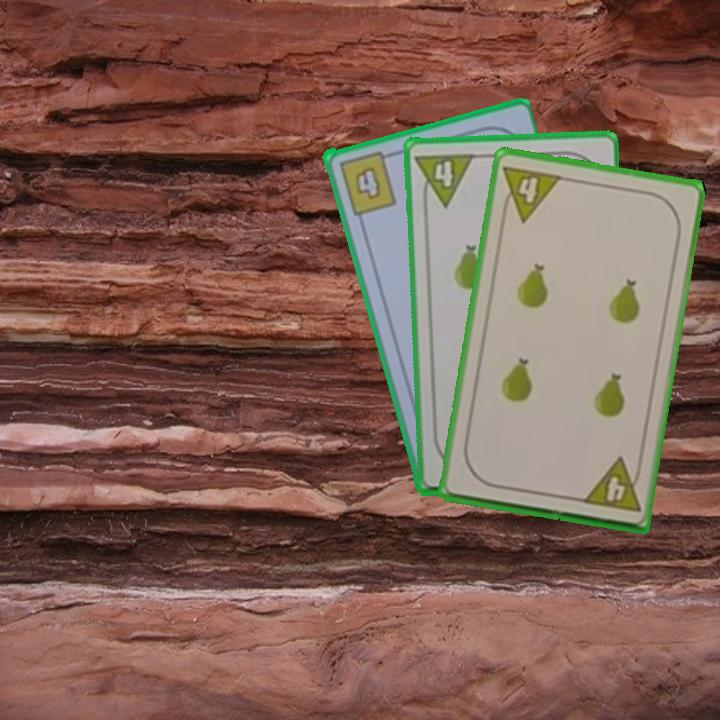4b: (335, 147, 399, 218)
4p: (497, 161, 565, 225), (578, 454, 645, 515), (412, 149, 477, 210)
